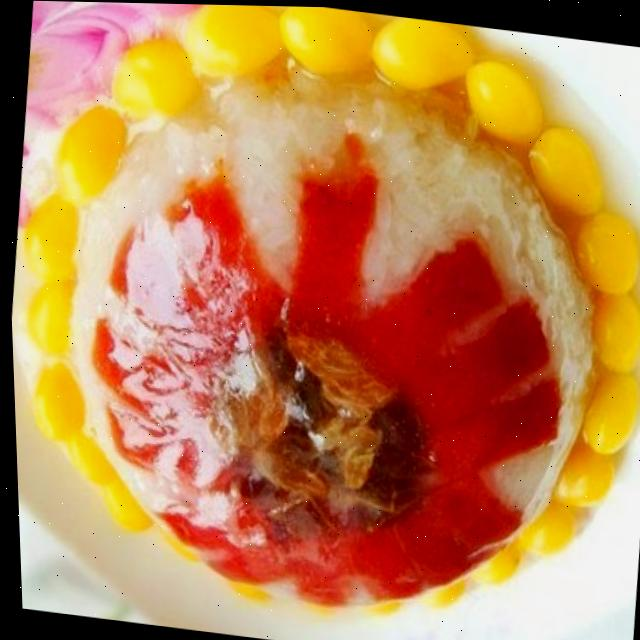米饭主食: (0, 11, 640, 640)
